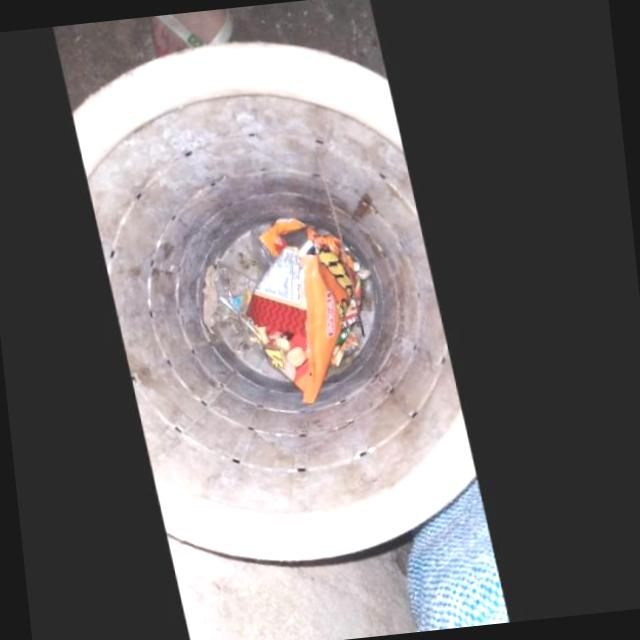bao_bi_thuc_pham: (249, 218, 367, 404)
